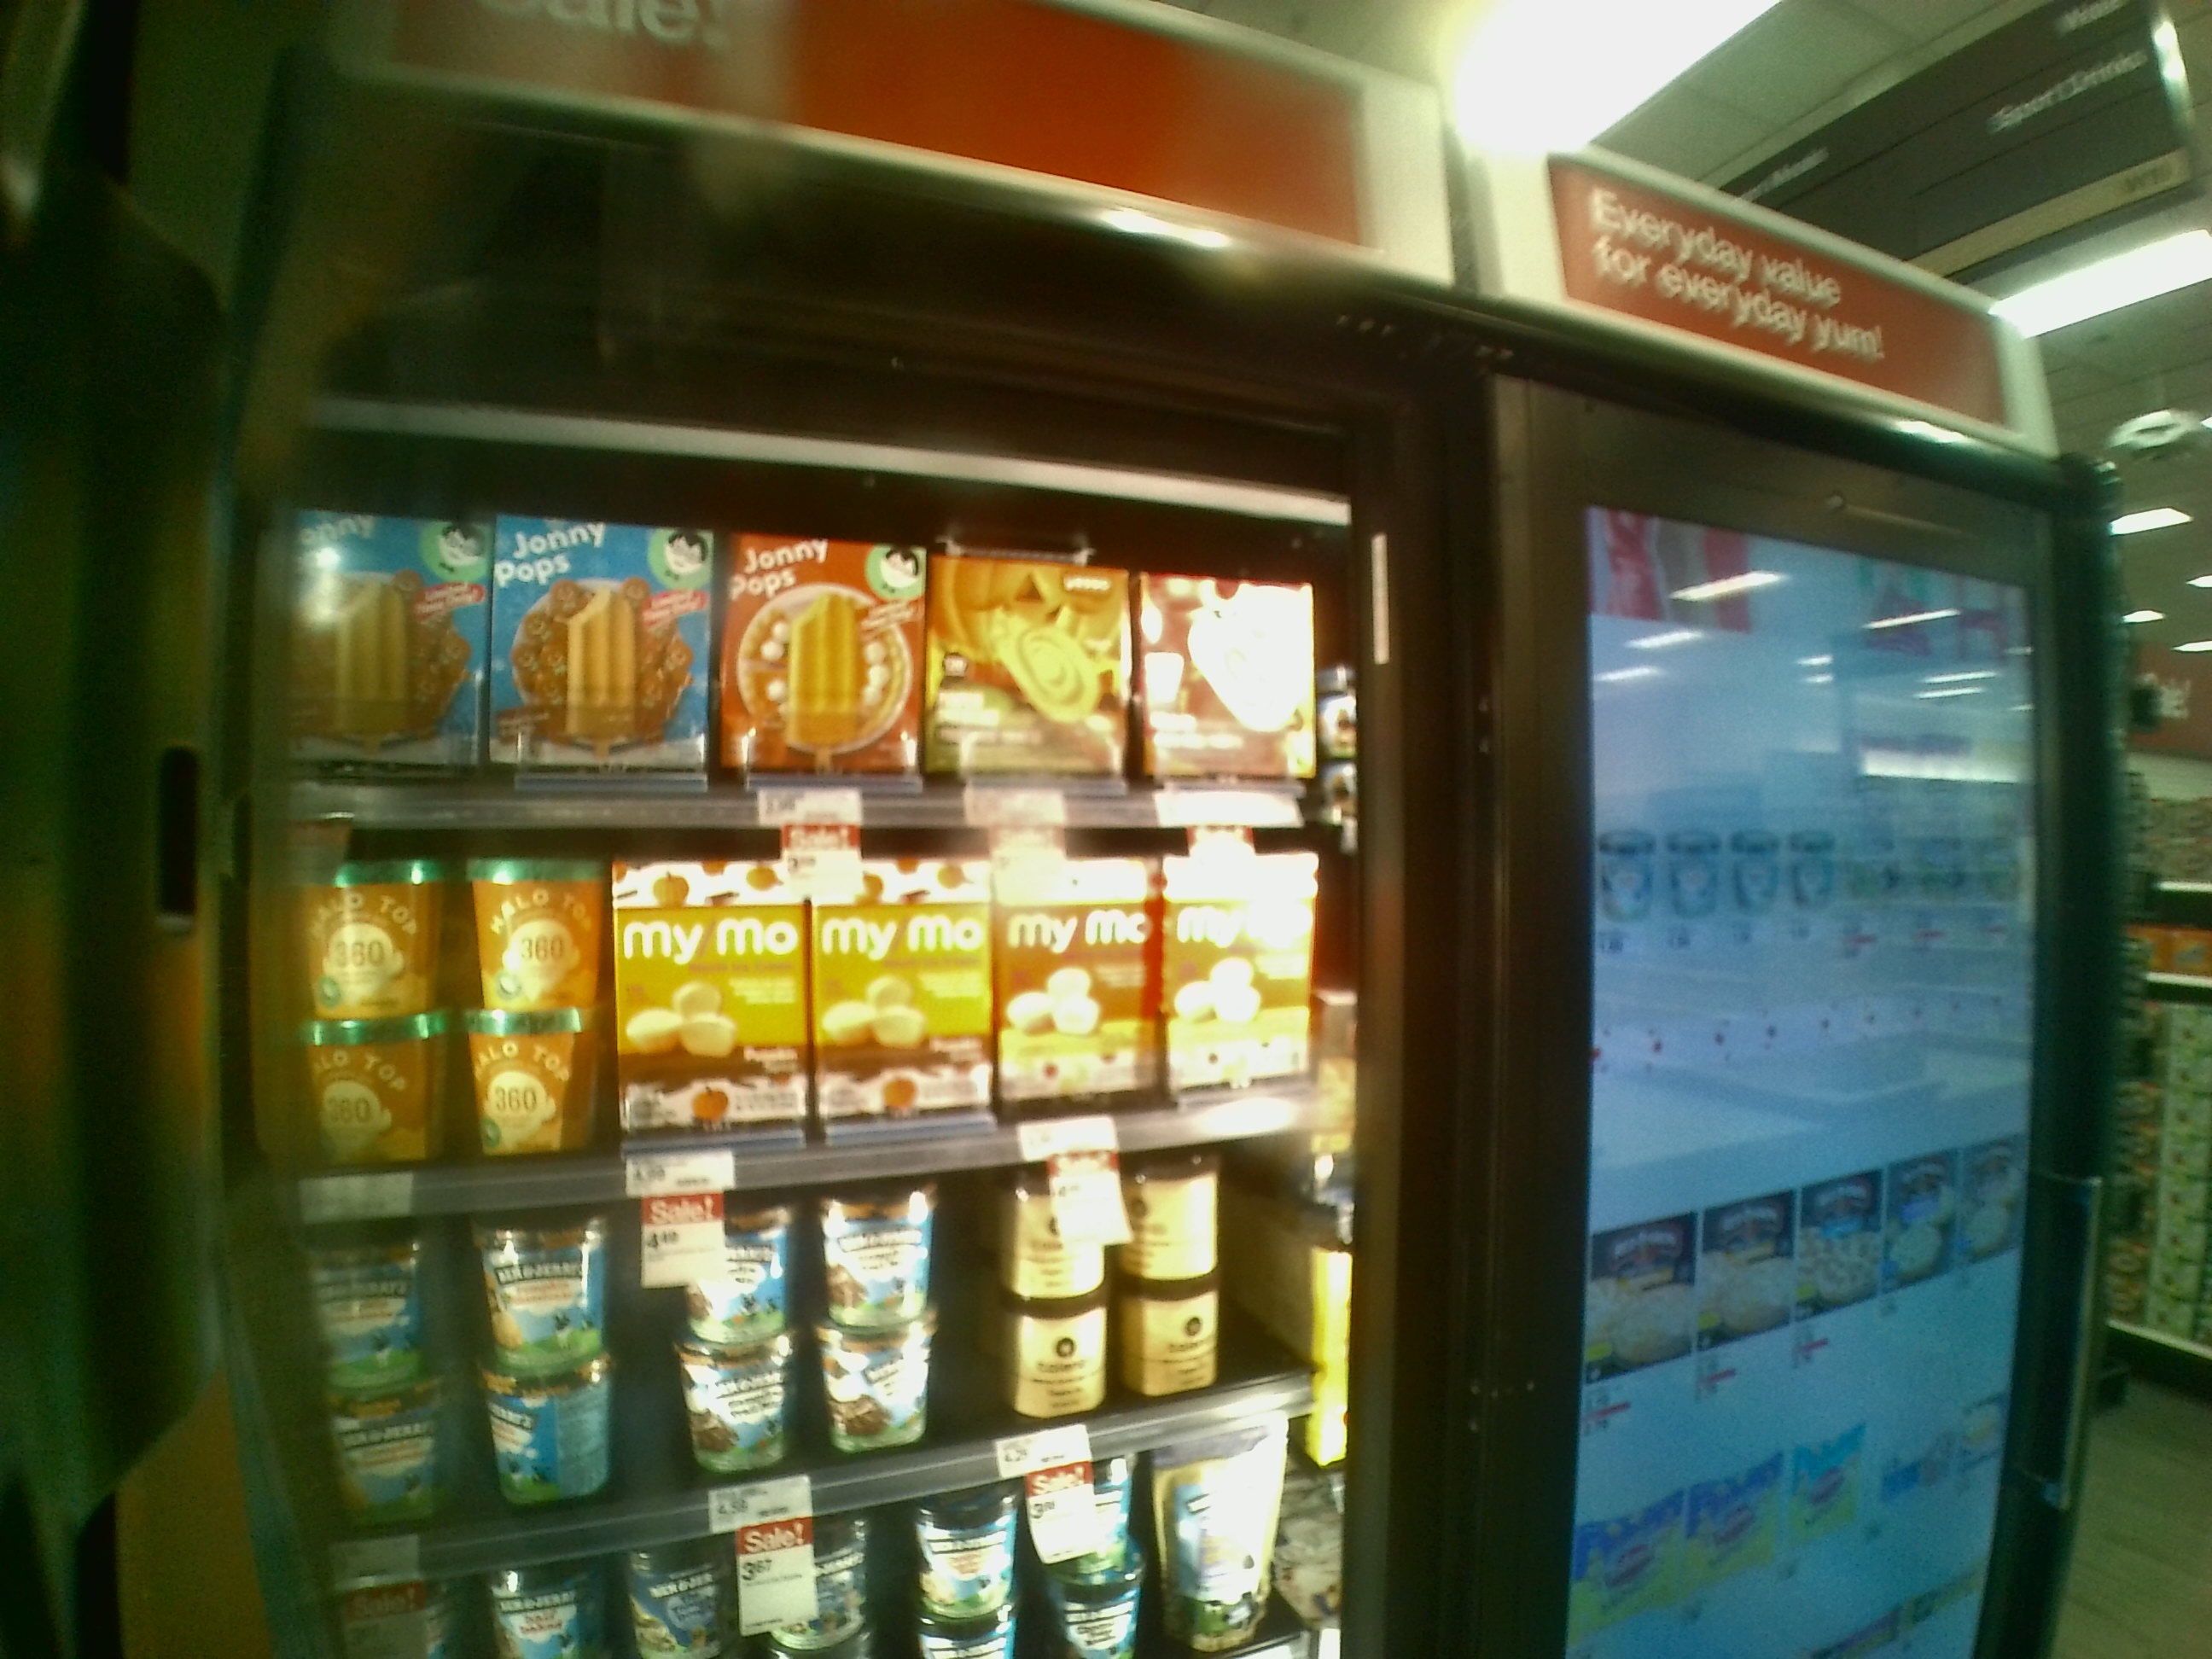shelf: (244, 784, 1390, 1197), (261, 444, 1346, 828), (242, 1190, 1357, 1534)
